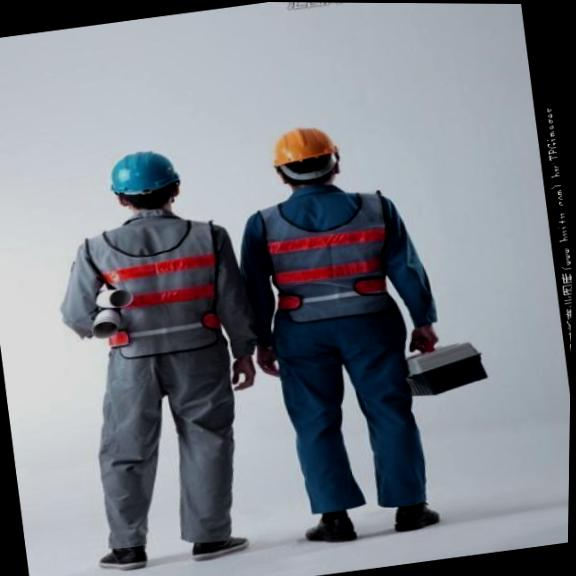safety_vest: (69, 208, 250, 374), (245, 186, 416, 335)
